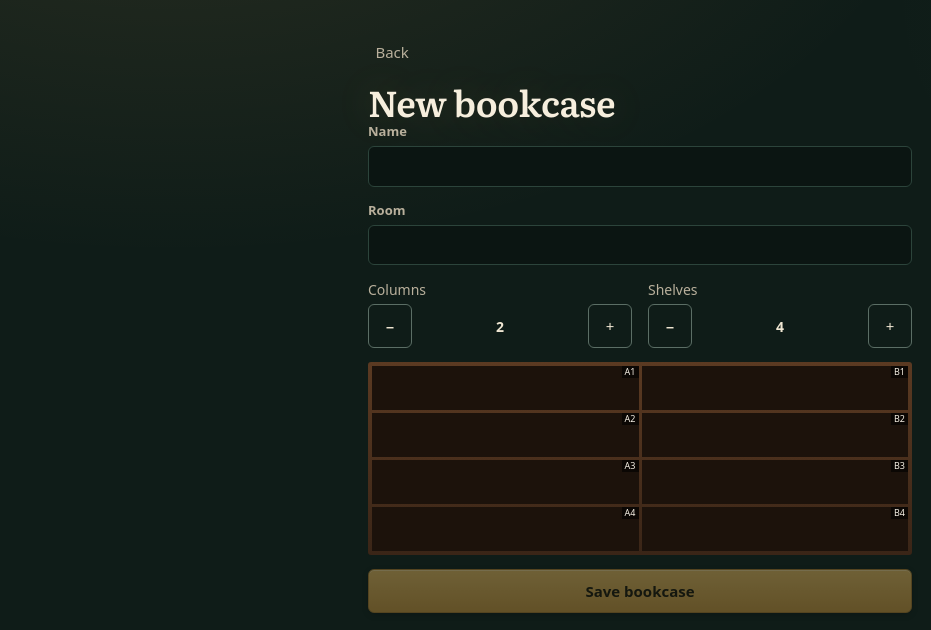
Test: the bookcase editor › saveNeedsANameAndARoom
The width and height of the screenshot is (931, 630).
Check: the button "Save bookcase" is disabled, box [368,570,912,614]
Type "Tall" into the field labelled "Name" at (640, 166), box [368,146,912,187]
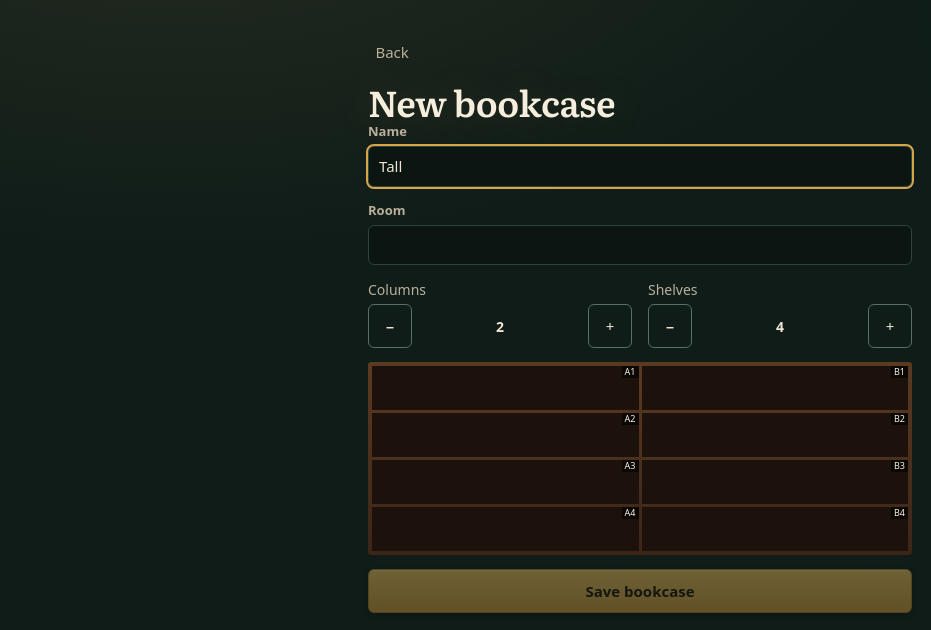
Check: the button "Save bookcase" is disabled, box [368,570,912,614]
Type "Office" into the field labelled "Room" at (640, 245), box [368,225,912,266]
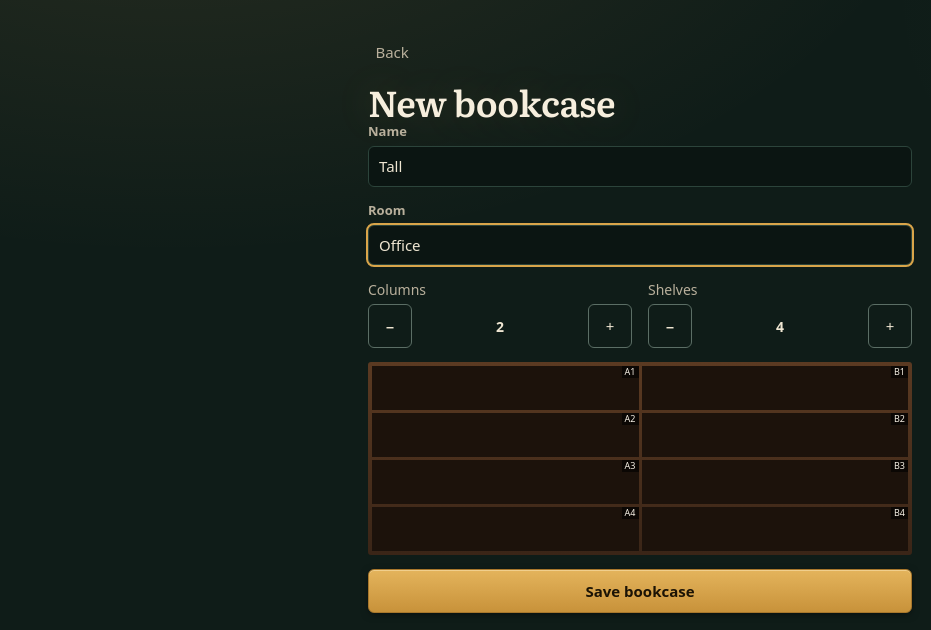
Check: the button "Save bookcase" is enabled, box [368,570,912,614]
